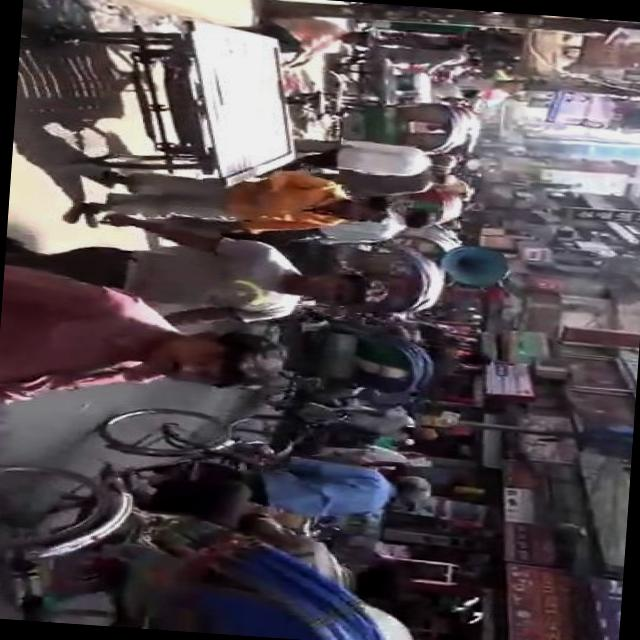motorcycle: (0, 391, 434, 640), (32, 0, 368, 199), (238, 314, 441, 400), (281, 232, 452, 318), (316, 90, 478, 158), (394, 225, 509, 294), (398, 183, 464, 224)
